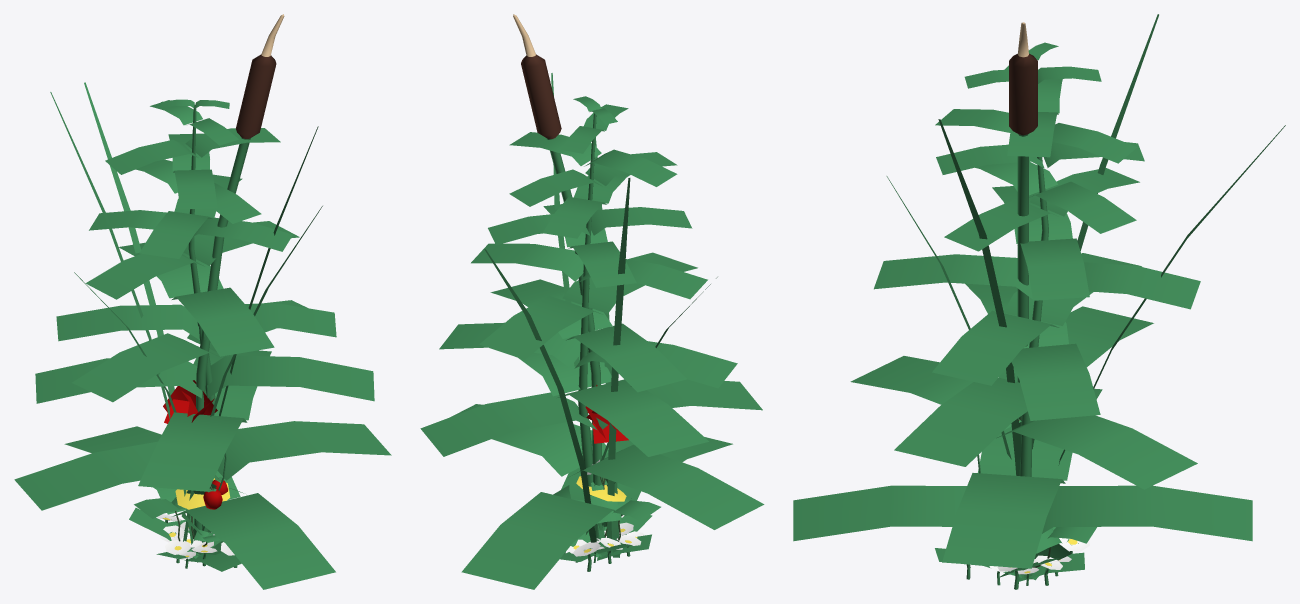
The model's file is Herbs01.fbx.
3 views of the same model, side by side, from view 1: azimuth 30°, elevation 25°; view 2: azimuth 150°, elevation 25°; view 3: azimuth 270°, elevation 25° (orthographic). The views are drawn at different scales.
Parts seen in each view (by area): view 1: StorNaelde01, Dunhammer01, Maelkeboette01, SkovJordbaer01, Bellis01, Kornvalmue01; view 2: StorNaelde01, Dunhammer01, SkovJordbaer01, Maelkeboette01, Bellis01, Kornvalmue01; view 3: StorNaelde01, Dunhammer01, Bellis01, Maelkeboette01, SkovJordbaer01.
Boxes of the visible parts, x1,y1,x2,y2 form: StorNaelde01: (14, 99, 391, 589); Dunhammer01: (50, 14, 322, 557); Maelkeboette01: (129, 478, 241, 571); SkovJordbaer01: (134, 475, 243, 546); Bellis01: (157, 514, 237, 568); Kornvalmue01: (163, 380, 226, 541); StorNaelde01: (420, 96, 764, 589); Dunhammer01: (484, 14, 717, 557); SkovJordbaer01: (553, 459, 660, 541); Maelkeboette01: (560, 476, 652, 561); Bellis01: (564, 515, 644, 571); Kornvalmue01: (571, 385, 628, 557); StorNaelde01: (793, 42, 1252, 574); Dunhammer01: (886, 14, 1285, 579); Bellis01: (966, 538, 1089, 589); Maelkeboette01: (935, 548, 1084, 581); SkovJordbaer01: (1032, 527, 1096, 567).
Bounding box in the file's own units: 412 × 620 × 461.
